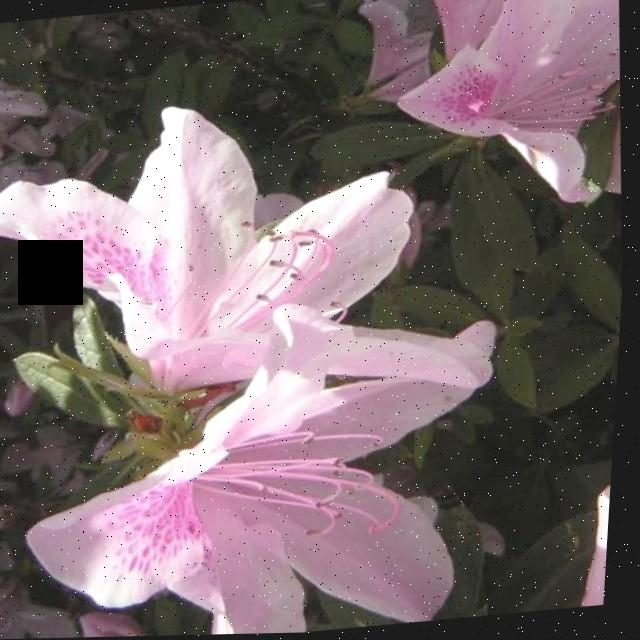azalea: (0, 103, 493, 640), (362, 0, 633, 224)
